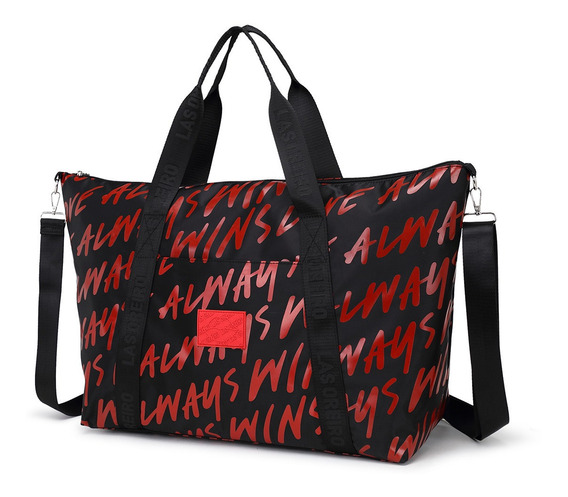cartera: (32, 26, 512, 464)
